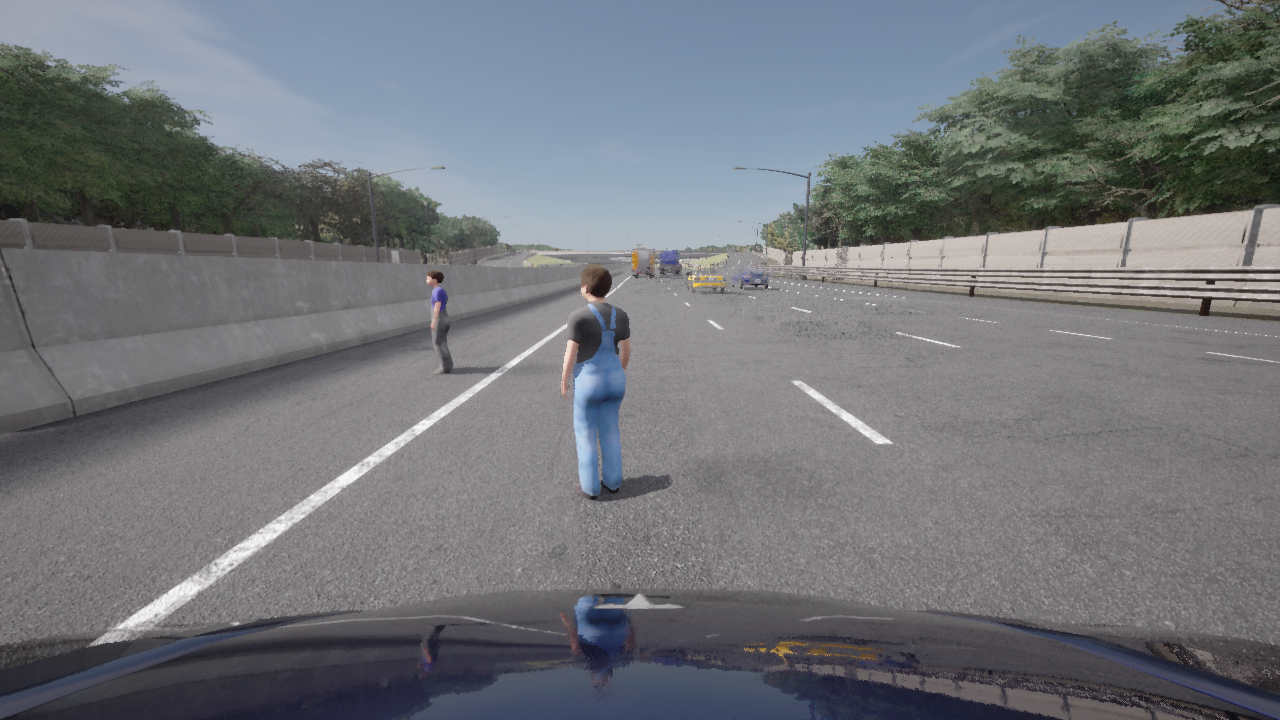cyclist: (0, 588, 1279, 719), (686, 264, 726, 293), (731, 266, 769, 289), (631, 244, 656, 277), (657, 250, 680, 275), (647, 274, 649, 279)
pedestrian: (562, 264, 631, 499), (426, 269, 453, 373), (443, 261, 445, 264)
